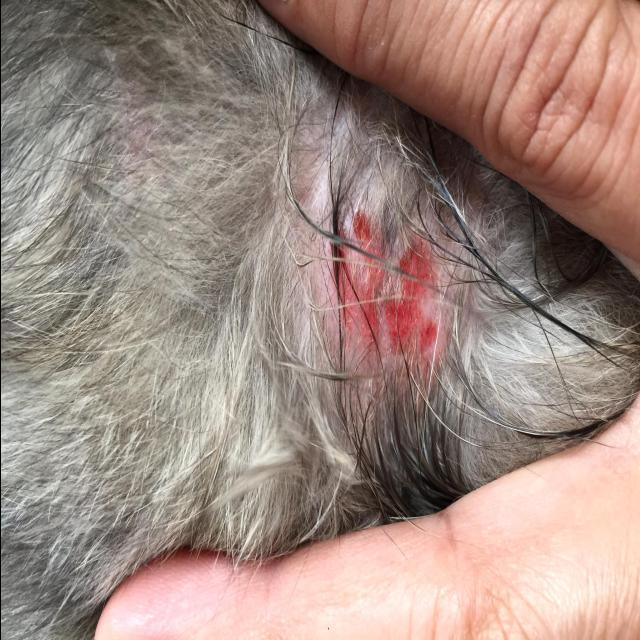hac lao: (257, 167, 483, 434)
